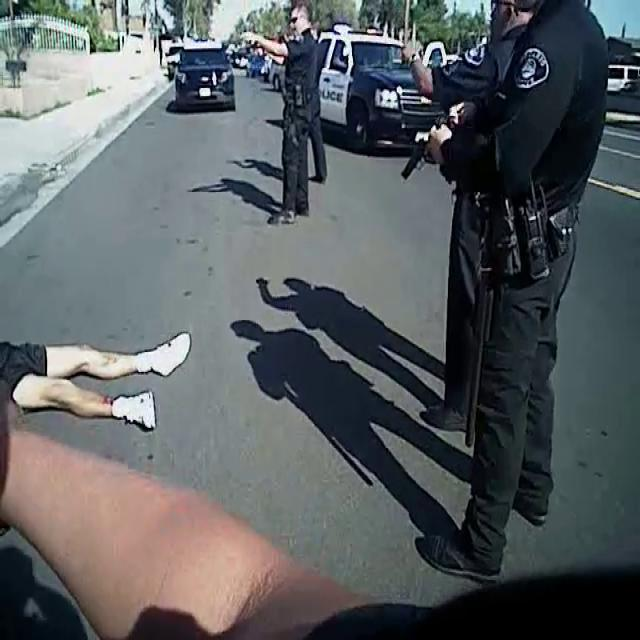gun: (391, 122, 437, 198)
